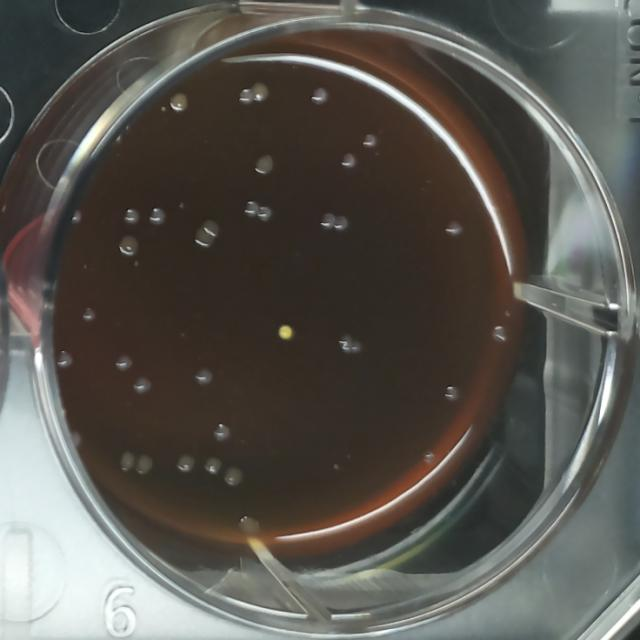Acinetobacter: (192, 365, 215, 389), (443, 216, 465, 240), (132, 374, 154, 398), (53, 348, 75, 372), (308, 84, 330, 107), (147, 206, 169, 229), (114, 352, 136, 374), (338, 151, 359, 173), (316, 210, 337, 232), (121, 206, 143, 227), (490, 324, 511, 346), (212, 422, 232, 445), (360, 130, 380, 152), (241, 199, 261, 219), (332, 212, 350, 233), (81, 305, 99, 326), (337, 331, 353, 354), (256, 204, 274, 224), (443, 384, 461, 404), (237, 88, 254, 107), (69, 208, 83, 225)
Vagococcus: (193, 218, 221, 252), (233, 510, 262, 541), (221, 460, 248, 492), (251, 150, 278, 179), (133, 450, 157, 479), (174, 449, 198, 477), (117, 232, 142, 258), (168, 89, 192, 116), (201, 452, 225, 479), (250, 80, 271, 104), (116, 449, 137, 473)
